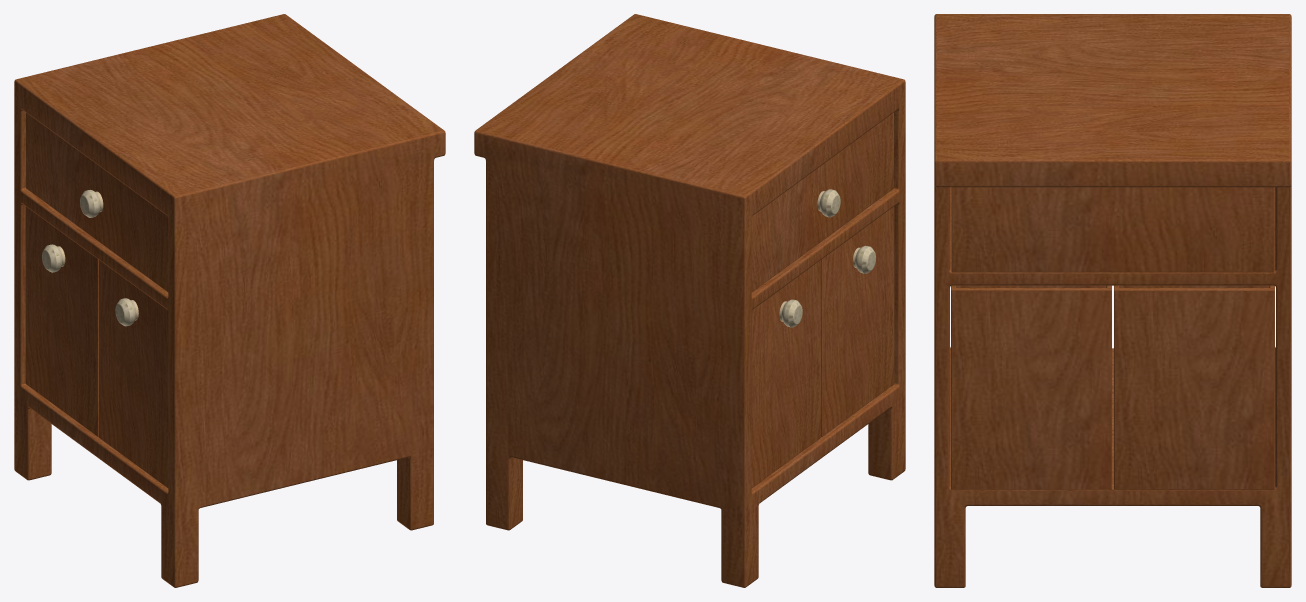
Rendered from small_cabinet_left_wood.glb.
3 views of the same model, side by side, from view 1: azimuth 30°, elevation 25°; view 2: azimuth 150°, elevation 25°; view 3: azimuth 270°, elevation 25° (orthographic). The views are drawn at different scales.
Bounding box in the file's own units: 13.61 × 18.09 × 13.46.
Materials: 4 (3 with a texture image).
